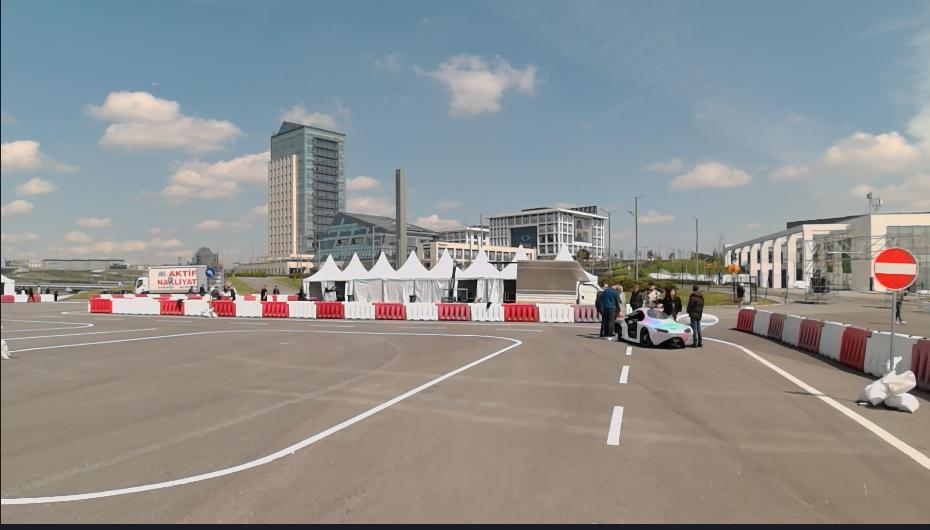nesne: (0, 305, 928, 525), (0, 311, 635, 528), (0, 326, 525, 503), (589, 335, 930, 523), (704, 338, 929, 468), (735, 306, 887, 379), (214, 299, 600, 325), (514, 260, 601, 303), (854, 357, 917, 411), (618, 305, 691, 347), (134, 264, 209, 296), (873, 244, 919, 289), (599, 282, 626, 340), (684, 282, 706, 346), (0, 317, 93, 332), (838, 324, 866, 373), (865, 330, 890, 379), (818, 320, 846, 363), (797, 317, 821, 354), (111, 296, 160, 314), (596, 278, 609, 338), (605, 402, 623, 445), (780, 314, 801, 348), (664, 282, 683, 318), (538, 303, 573, 322), (750, 308, 772, 336), (645, 279, 664, 311), (503, 304, 538, 321), (406, 302, 438, 320), (766, 312, 786, 340), (470, 304, 504, 320), (374, 302, 405, 319), (436, 304, 471, 319), (315, 301, 344, 319), (573, 304, 600, 323), (888, 287, 894, 371), (235, 298, 261, 317), (344, 302, 373, 319), (287, 300, 314, 318), (736, 306, 754, 332), (630, 281, 645, 311), (212, 299, 236, 317), (159, 296, 182, 313), (213, 286, 237, 302), (263, 301, 287, 317), (184, 300, 209, 315), (88, 298, 111, 313), (0, 337, 14, 358), (618, 363, 630, 382), (258, 286, 271, 301), (26, 284, 36, 303), (736, 281, 743, 306), (209, 276, 213, 309), (203, 309, 218, 317), (38, 293, 52, 301), (186, 284, 196, 295), (198, 281, 206, 294), (204, 267, 215, 276), (1, 294, 13, 302), (53, 287, 59, 302), (625, 344, 633, 354), (15, 294, 25, 301)
